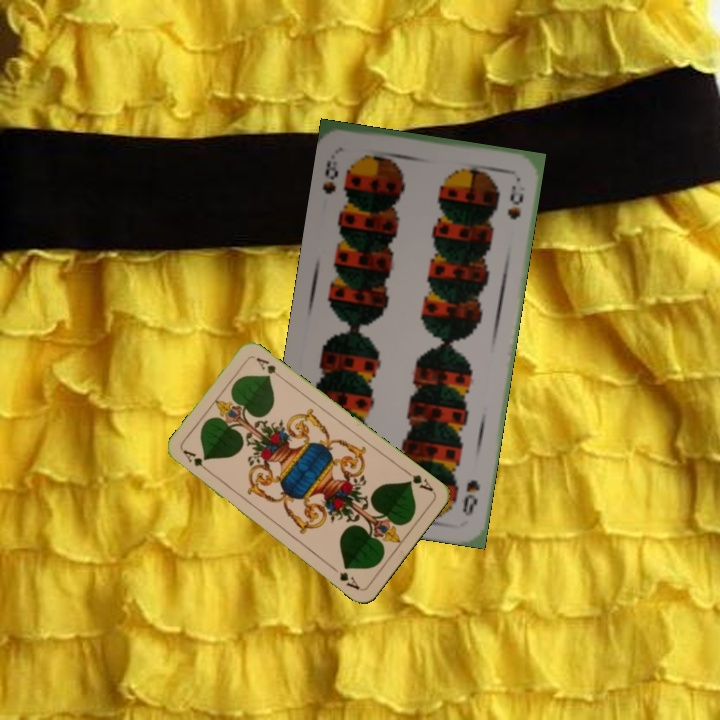GA: (179, 445, 213, 476), (400, 466, 436, 494)
S8: (458, 476, 482, 519), (318, 156, 341, 197)
